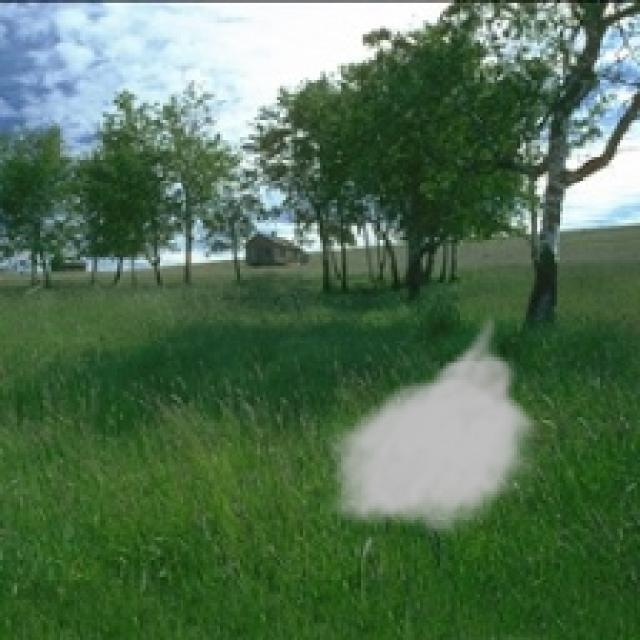Smoke: (317, 308, 543, 538)
